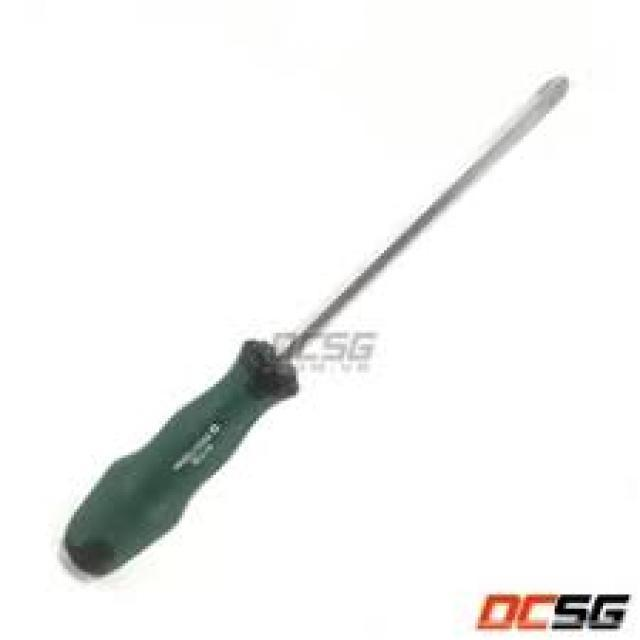screwdriver: (54, 62, 578, 588)
